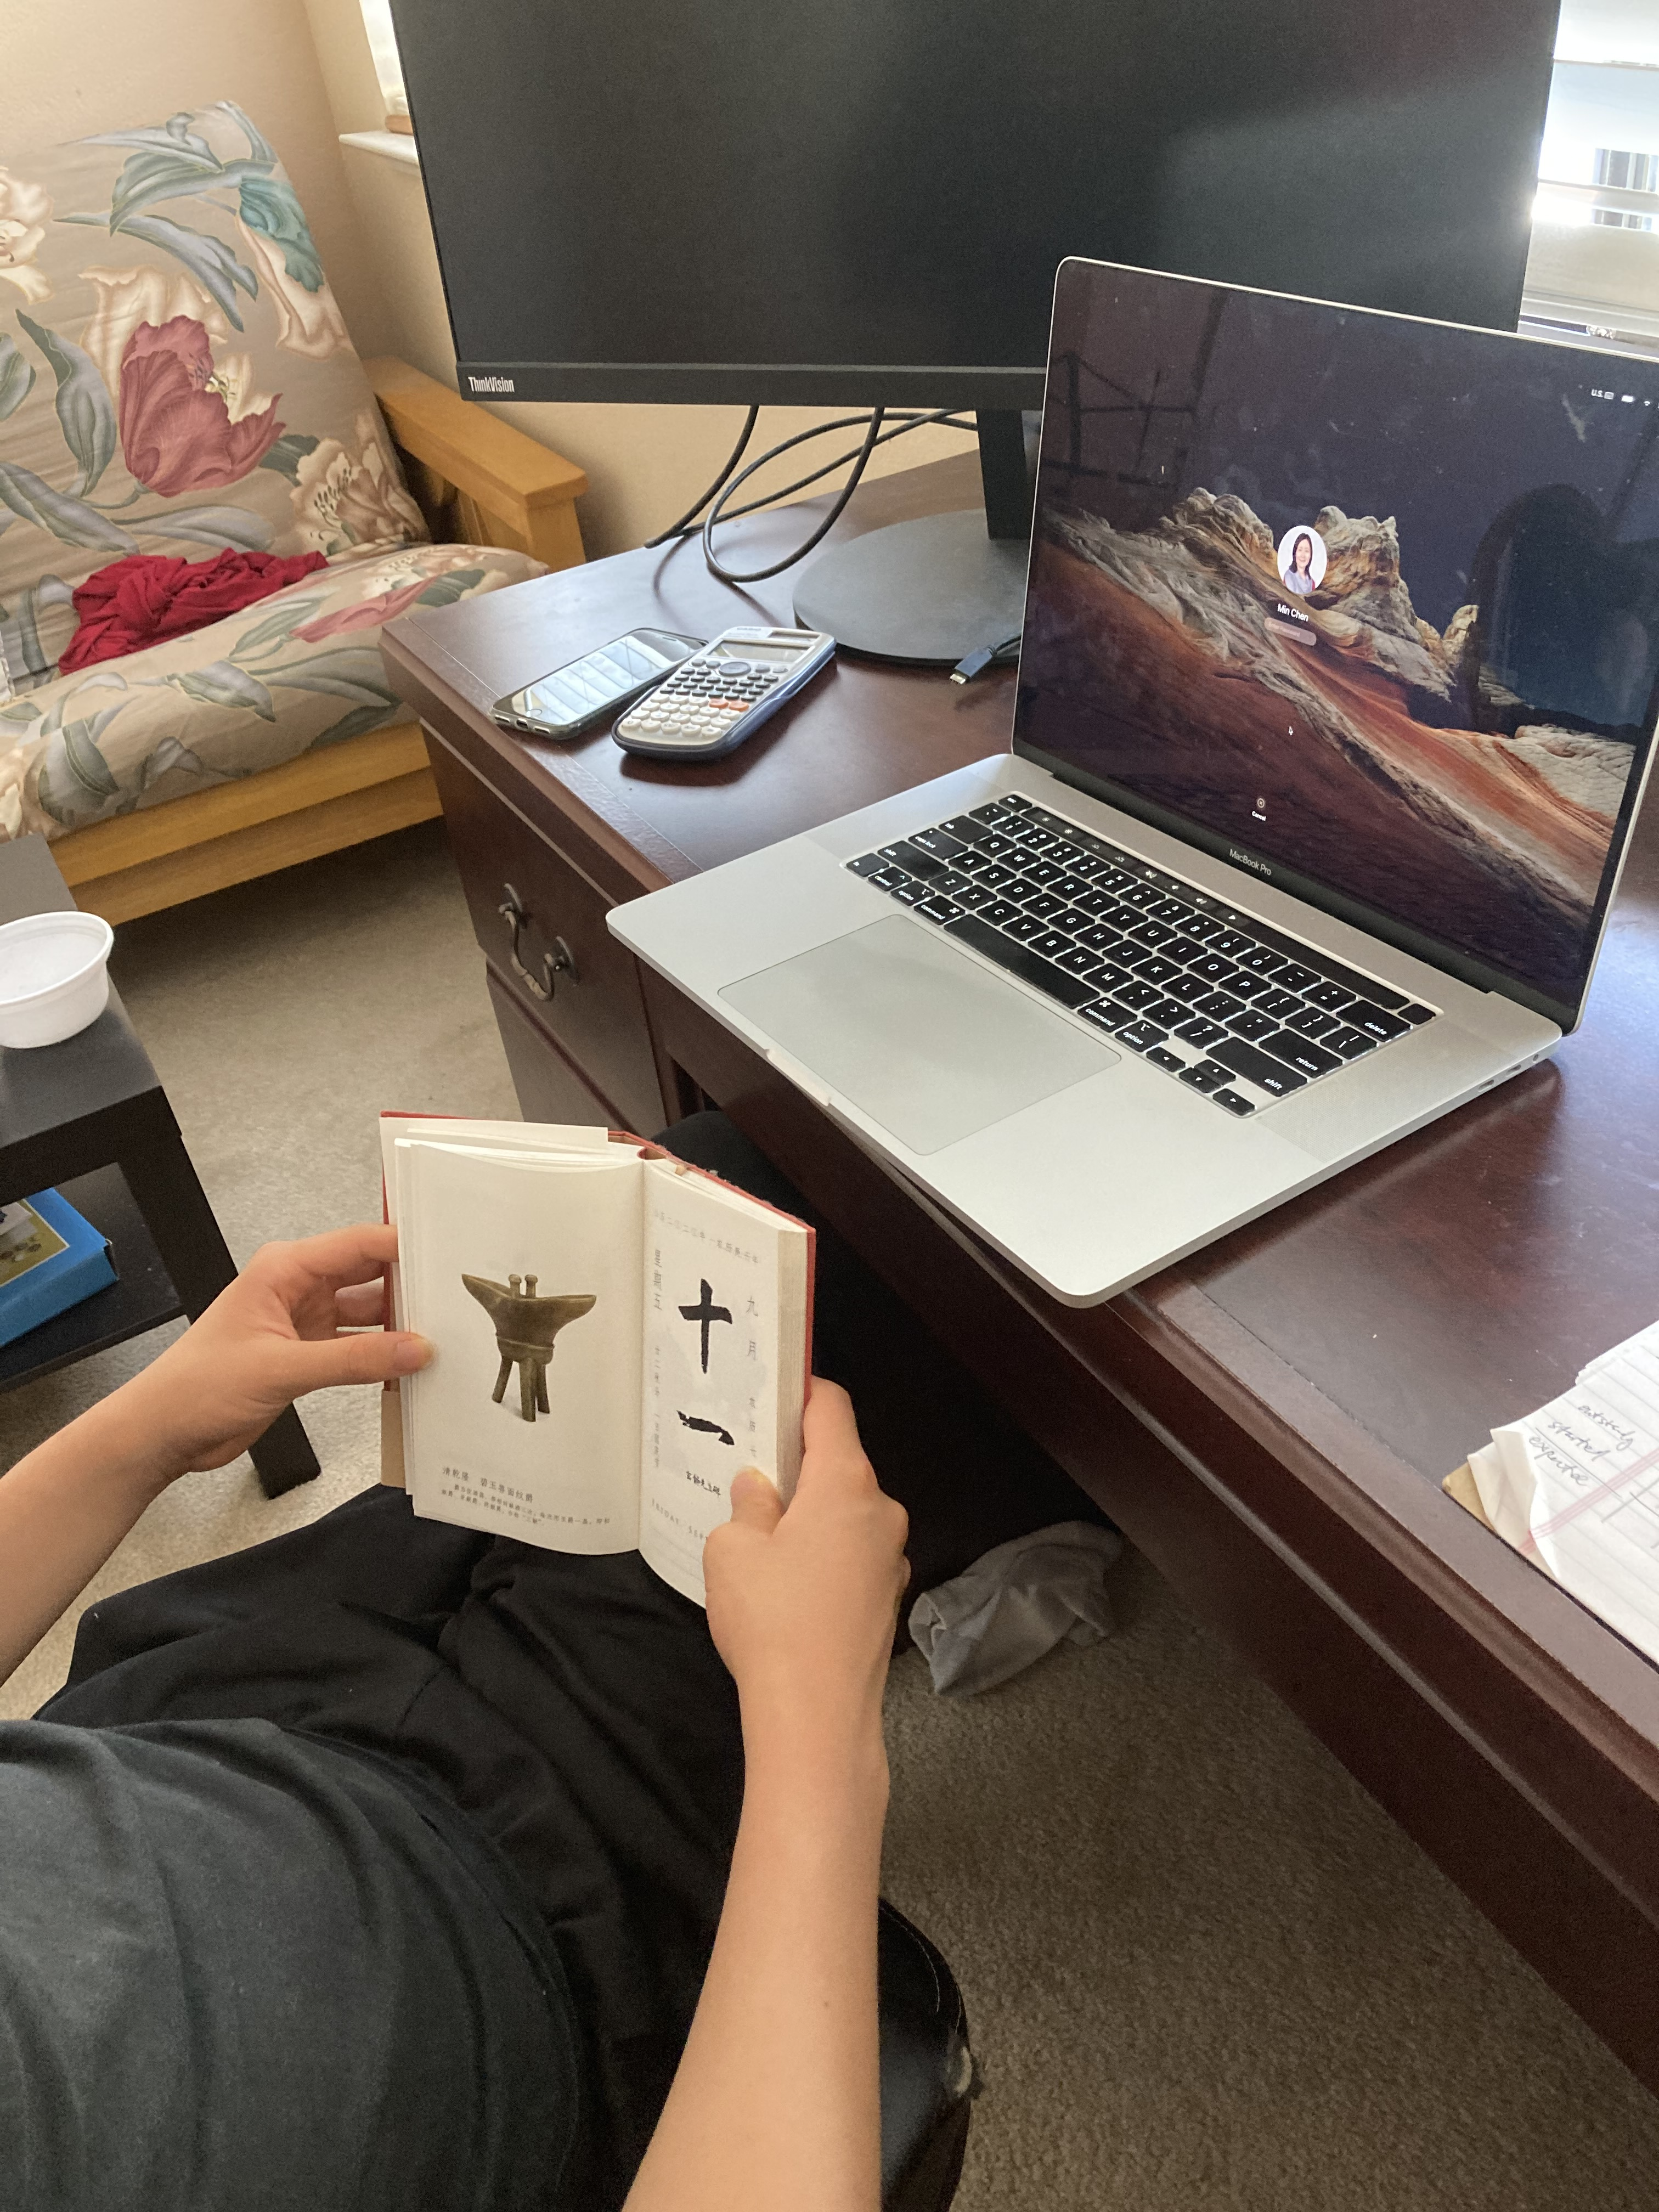Open Book: (373, 1099, 816, 1625)
